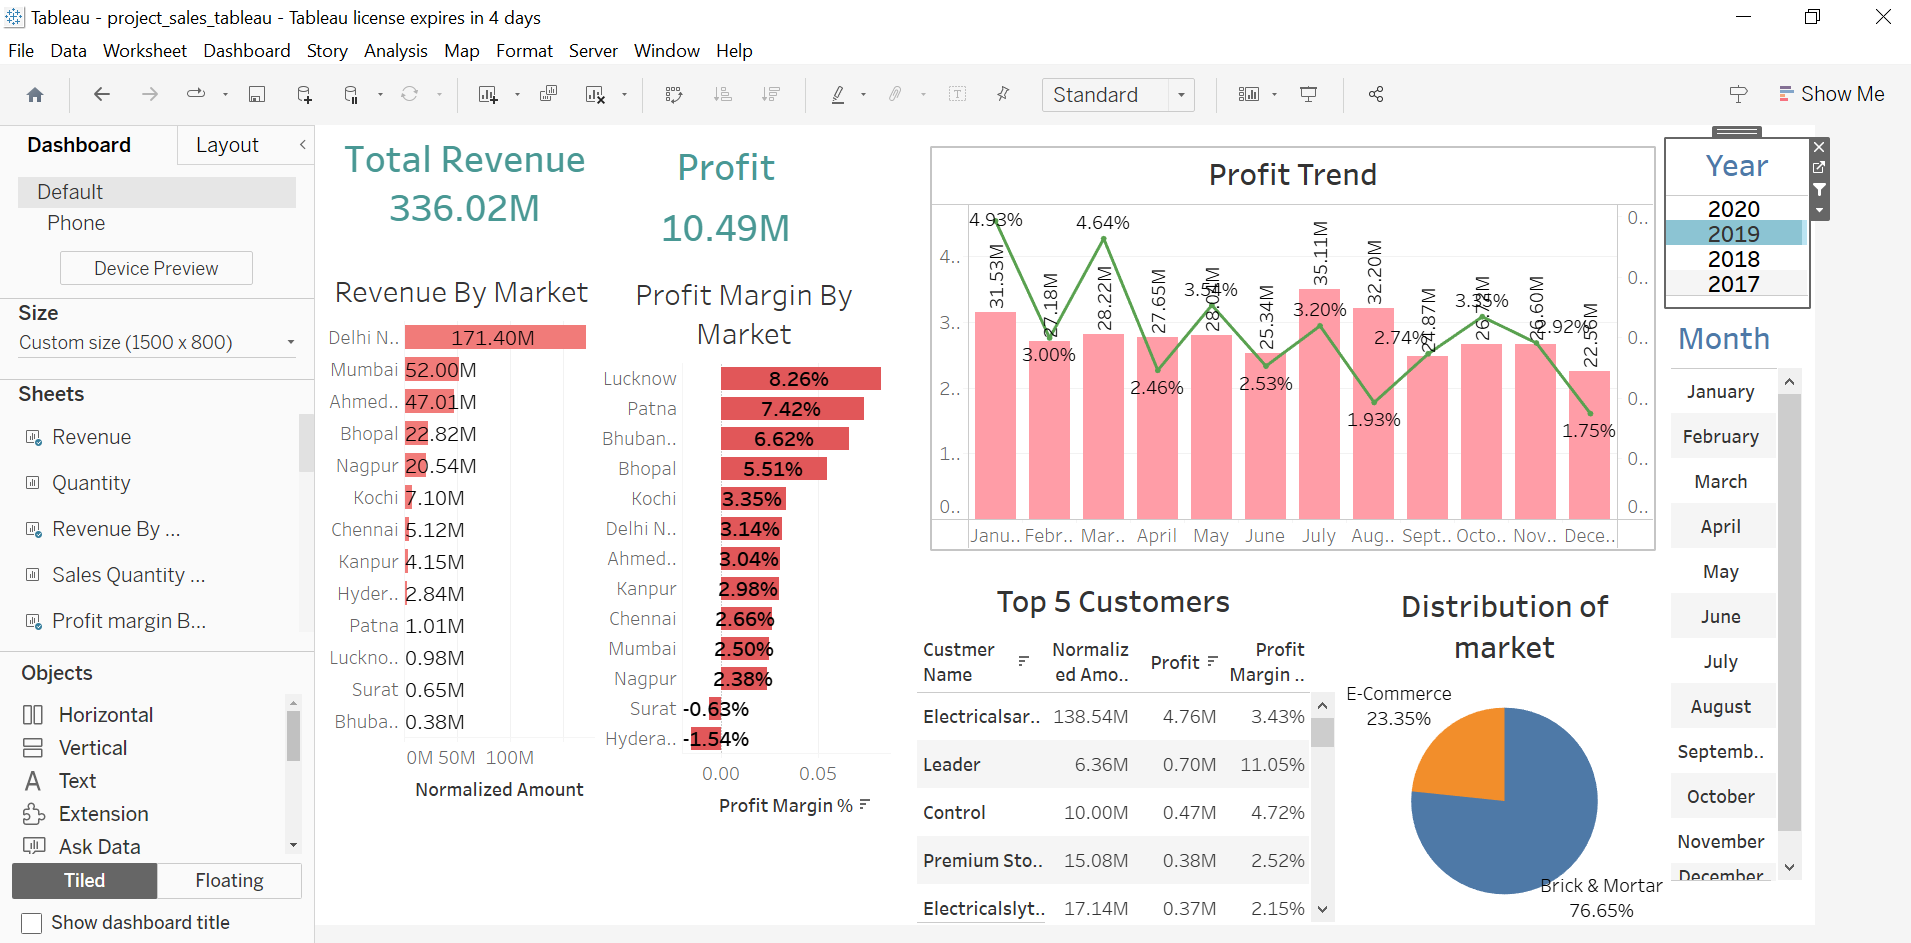

The dashboard page shown, as its layout file describes it:
{"tool":"tableau","page":{"name":"Profit Analysis","canvas":[1500,800],"ordinal":0},"visuals":[{"type":"worksheet","title":"Revenue","mark":"Automatic","box":[8,8,312,107]},{"type":"worksheet","title":"Profit","mark":"Automatic","box":[317,12,204,117]},{"type":"worksheet","title":"Year","mark":"Automatic","rows":["cy_date"],"box":[1351,14,143,168]},{"type":"worksheet","title":"Profit Trend","mark":"Bar","rows":["Calculation_345651339696406528","Calculation_492862684414570496"],"cols":["cy_date"],"box":[617,23,722,401]},{"type":"worksheet","title":"Revenue By Markets","mark":"Automatic","rows":["markets_name"],"cols":["Calculation_345651339696406528"],"box":[13,142,267,654]},{"type":"worksheet","title":"Profit margin By Markets (2)","mark":"Automatic","rows":["markets_name"],"cols":["Calculation_492862684414570496"],"box":[283,145,305,650]},{"type":"worksheet","title":"Customer Table","mark":"Automatic","rows":["custmer_name"],"box":[602,450,418,348]},{"type":"worksheet","title":"Pie Chart","mark":"Pie","box":[1030,455,319,345]}]}

Visuals, with their boxes on the page's 1500x800 design canvas (x1, y1, x2, y2). These are canvas units, not pixel positions in the 1911x943 screenshot, which may show the page scaled, cropped or inside an application window:
"Revenue" worksheet: bbox=[8, 8, 320, 115]
"Profit" worksheet: bbox=[317, 12, 521, 129]
"Year" worksheet: bbox=[1351, 14, 1494, 182]
"Profit Trend" worksheet (Bar marks): bbox=[617, 23, 1339, 424]
"Revenue By Markets" worksheet: bbox=[13, 142, 280, 796]
"Profit margin By Markets (2)" worksheet: bbox=[283, 145, 588, 795]
"Customer Table" worksheet: bbox=[602, 450, 1020, 798]
"Pie Chart" worksheet (Pie marks): bbox=[1030, 455, 1349, 800]
